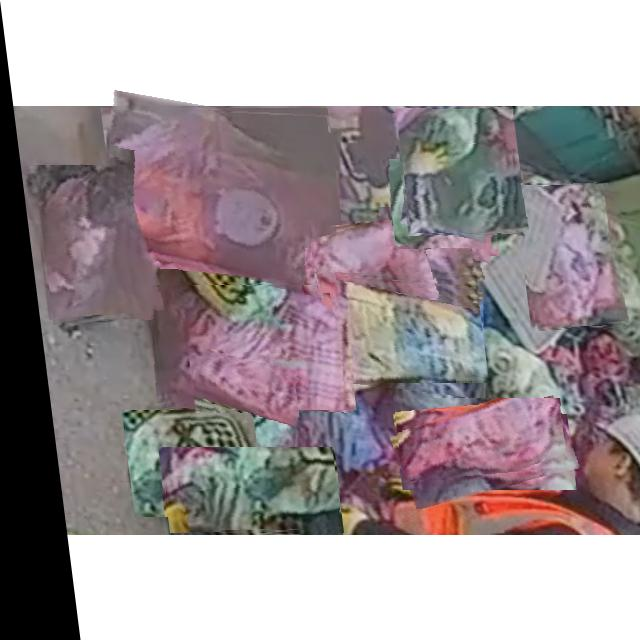general_trashbag: (330, 276, 478, 382), (152, 448, 328, 531), (401, 108, 511, 233), (116, 414, 249, 516), (184, 360, 289, 456), (387, 170, 490, 248)
other_trashbag: (107, 110, 335, 284), (148, 264, 339, 410), (38, 166, 124, 324), (390, 399, 551, 482), (525, 183, 613, 329), (307, 221, 409, 293), (372, 214, 466, 280)
